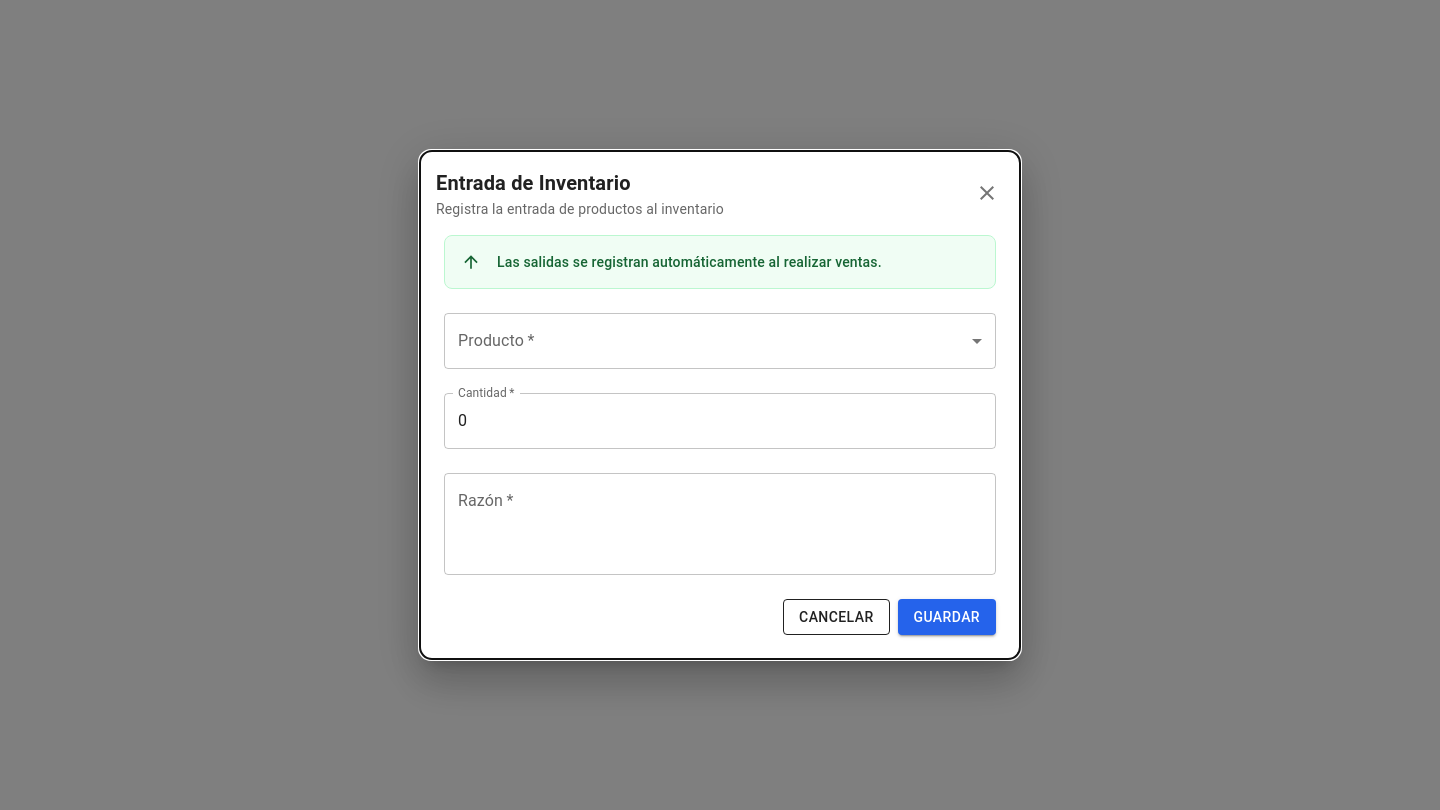
Test case: InventoryModal › no envía si faltan campos
The image size is (1440, 810).
What coordinates should you click on to do the following:
click the button "Guardar"
I would click on:
 (947, 617)
Its box is [898,599,996,635].
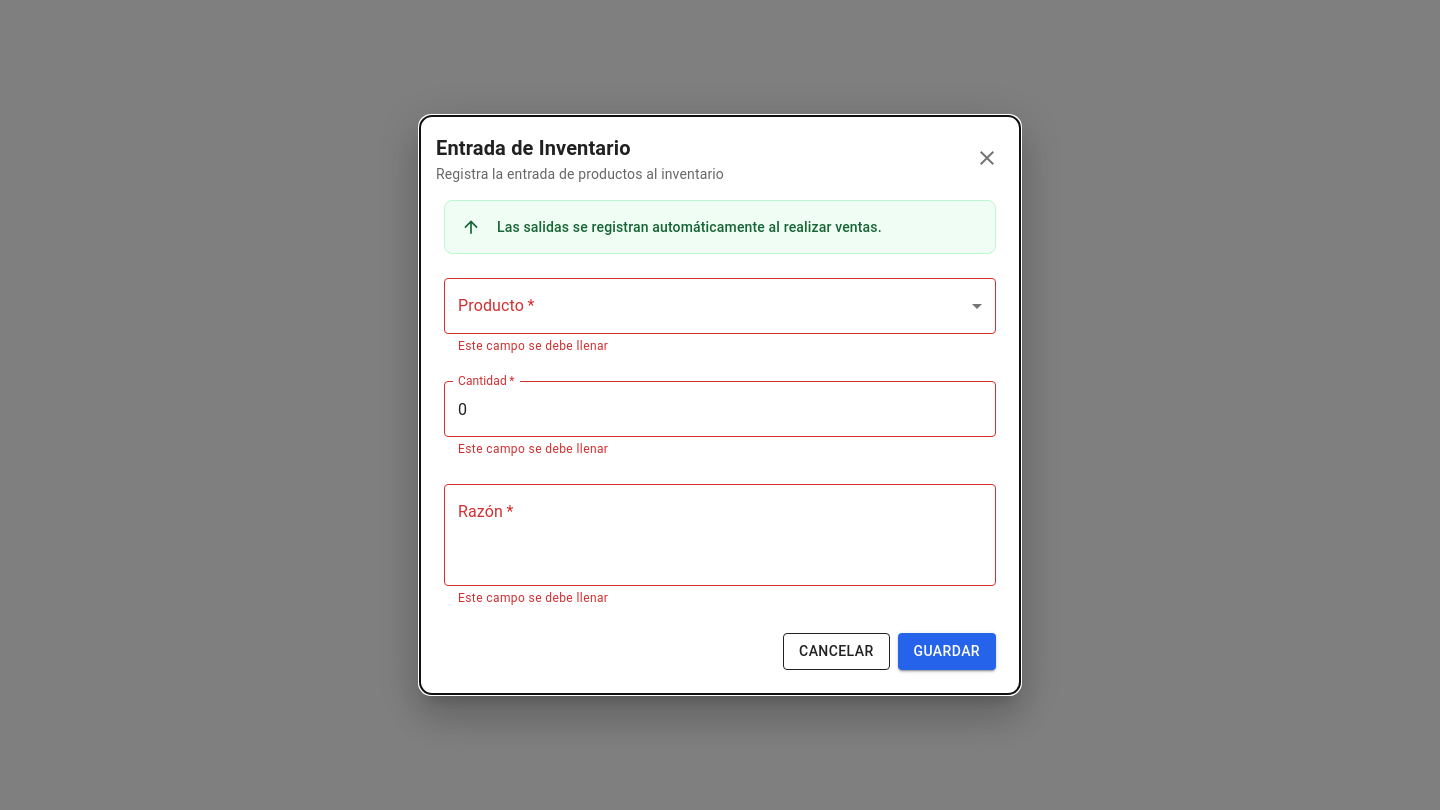
Result: the text "Este campo se debe llenar" is shown 3 times at [458,339,608,353]; [458,442,608,456]; [458,591,608,605]
